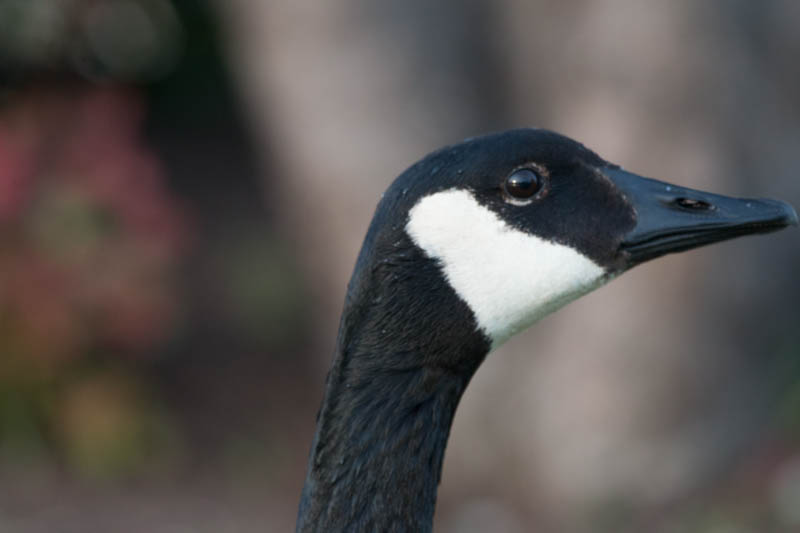goose-head: (344, 126, 799, 366)
